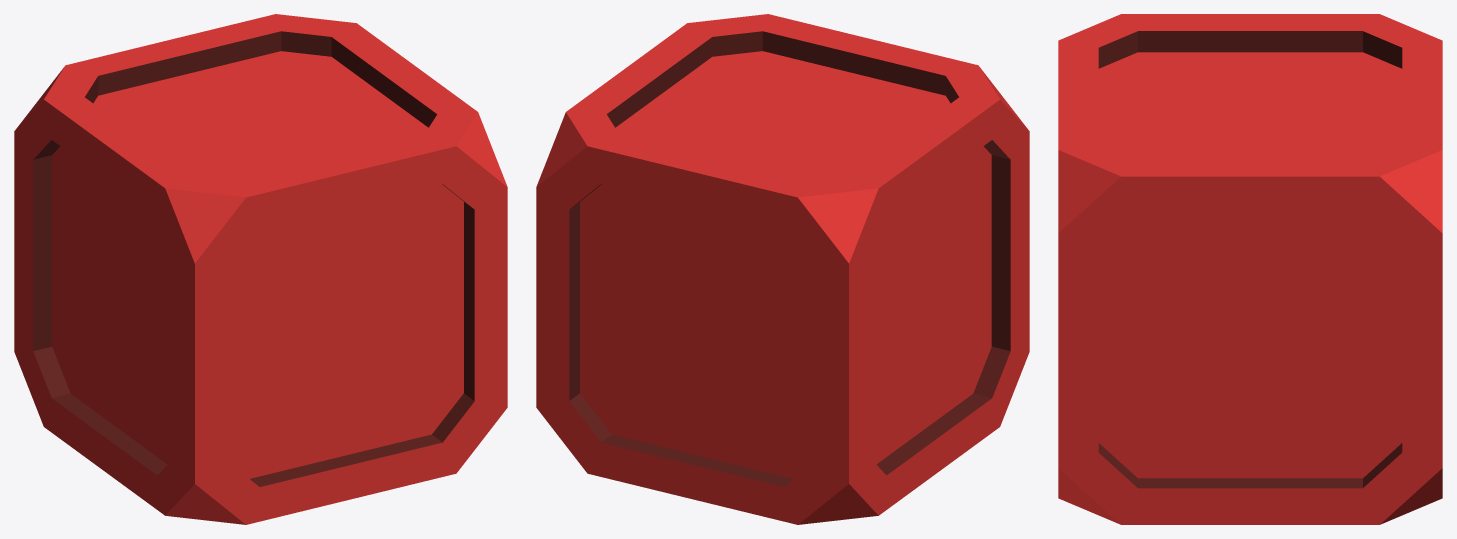
Rendered from Vbox3.fbx.
3 renders of one model, left to right at view 1: azimuth 30°, elevation 25°; view 2: azimuth 150°, elevation 25°; view 3: azimuth 270°, elevation 25°, orthographic. The views are drawn at different scales.
Visible parts, largest first — view 1: Vbox3.007, Vbox3.006, Vbox3.005, Vbox3.004, Vbox3, Vbox3.002, Vbox3.003; view 2: Vbox3.002, Vbox3, Vbox3.003, Vbox3.001, Vbox3.007, Vbox3.004, Vbox3.006; view 3: Vbox3.002, Vbox3.005, Vbox3.006, Vbox3.001, Vbox3, Vbox3.004.
Boxes of the visible parts, left/top/right/bottom form: Vbox3.007: left=57, top=256, right=370, bottom=524; Vbox3.006: left=251, top=81, right=507, bottom=300; Vbox3.005: left=284, top=290, right=507, bottom=494; Vbox3.004: left=115, top=142, right=364, bottom=328; Vbox3: left=14, top=47, right=250, bottom=255; Vbox3.002: left=139, top=14, right=434, bottom=141; Vbox3.003: left=14, top=197, right=117, bottom=436; Vbox3.002: left=536, top=54, right=820, bottom=300; Vbox3: left=679, top=121, right=957, bottom=328; Vbox3.003: left=673, top=265, right=913, bottom=524; Vbox3.001: left=536, top=290, right=759, bottom=494; Vbox3.007: left=880, top=197, right=1029, bottom=505; Vbox3.004: left=822, top=47, right=1029, bottom=264; Vbox3.006: left=645, top=14, right=904, bottom=121; Vbox3.002: left=1212, top=78, right=1442, bottom=347; Vbox3.005: left=1058, top=335, right=1351, bottom=524; Vbox3.006: left=1058, top=78, right=1279, bottom=347; Vbox3.001: left=1279, top=335, right=1442, bottom=524; Vbox3: left=1212, top=14, right=1442, bottom=103; Vbox3.004: left=1058, top=14, right=1220, bottom=103.
Size of the model in its own units: 200 by 200 by 200.
